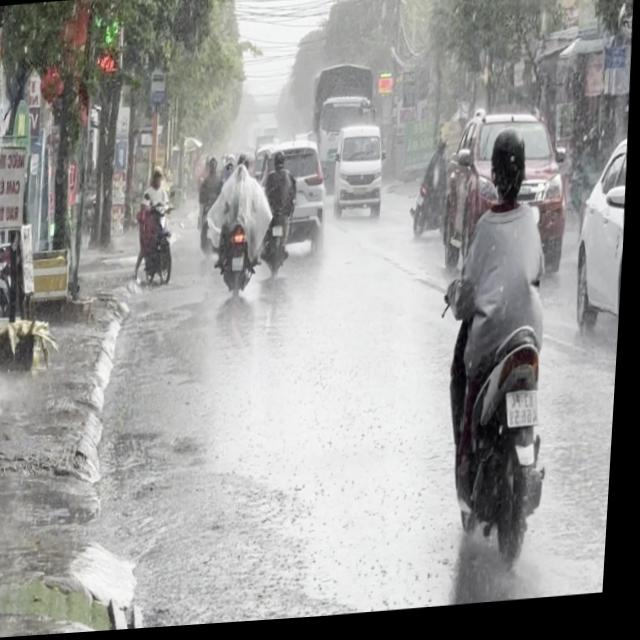helmet: (489, 131, 532, 212)
licenseplate: (434, 125, 574, 611)
nohelmet: (512, 396, 544, 434)
